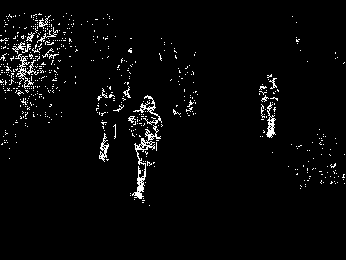person: (127, 95, 163, 203), (94, 84, 121, 162), (257, 72, 280, 138)
